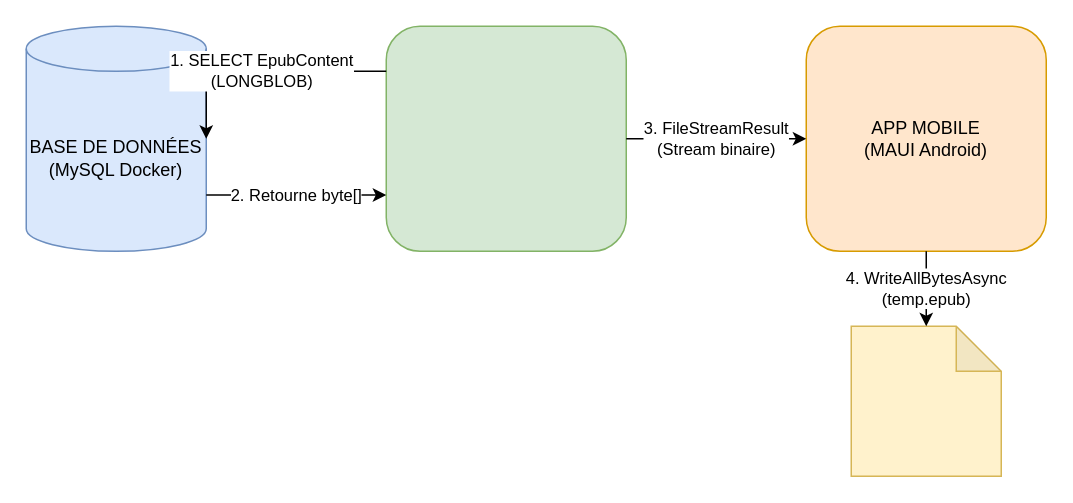
Image size: 1073x503. Some labels were removed from this diagram. Each missing label, with the centre of its shape:
"BACK-END API (.NET 9.0)" belongs at point (505, 138).
"STOCKAGE LOCAL (FileSystem.Cache)" belongs at point (925, 400).
